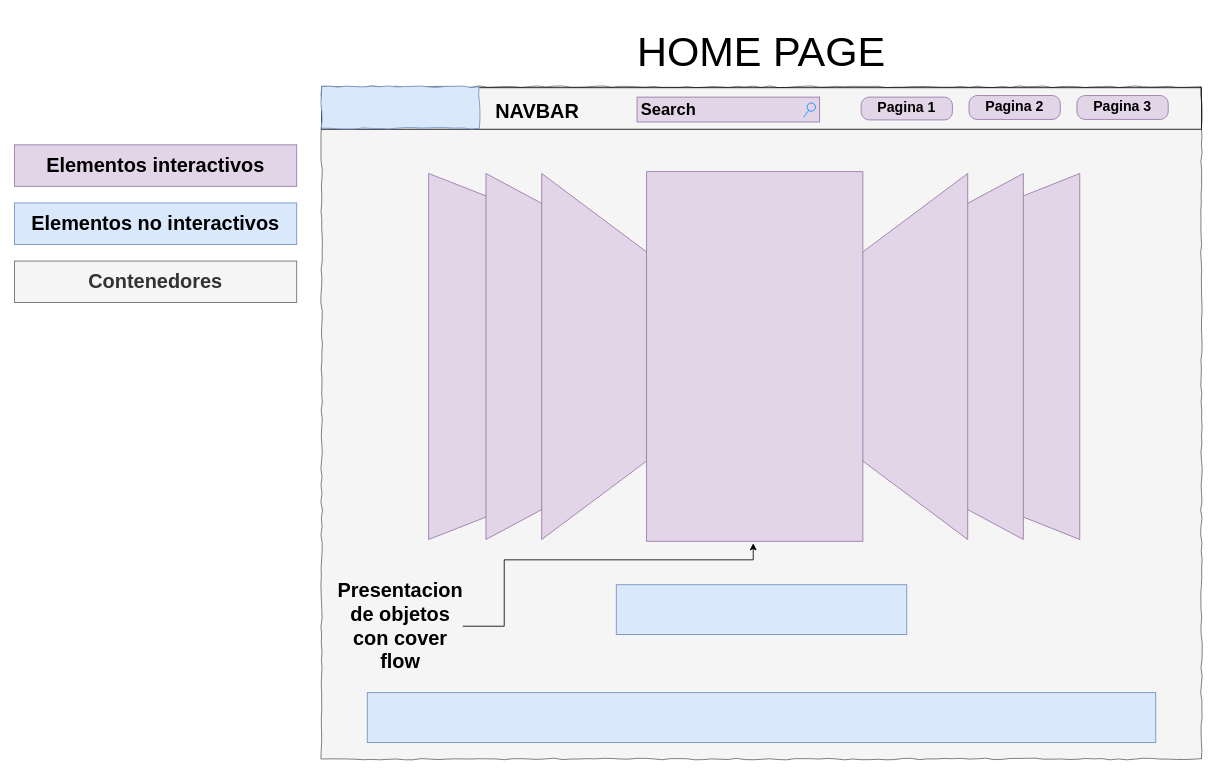
Image size: 1216x774. Some labels were removed from this diagram. Each missing label, with the box of its shape:
Footer: (366, 692, 1156, 742)
LOGO: (321, 86, 479, 128)
PRESENTACION A LA PAGINA: (615, 584, 907, 635)
